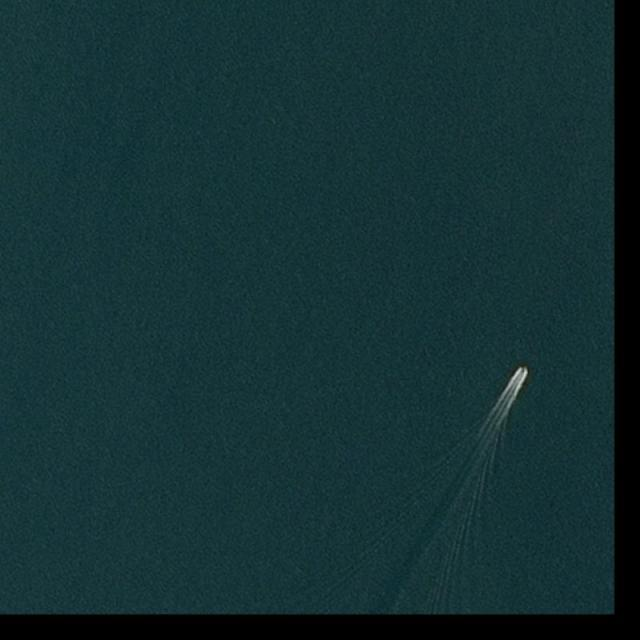ship: (518, 366, 526, 376)
